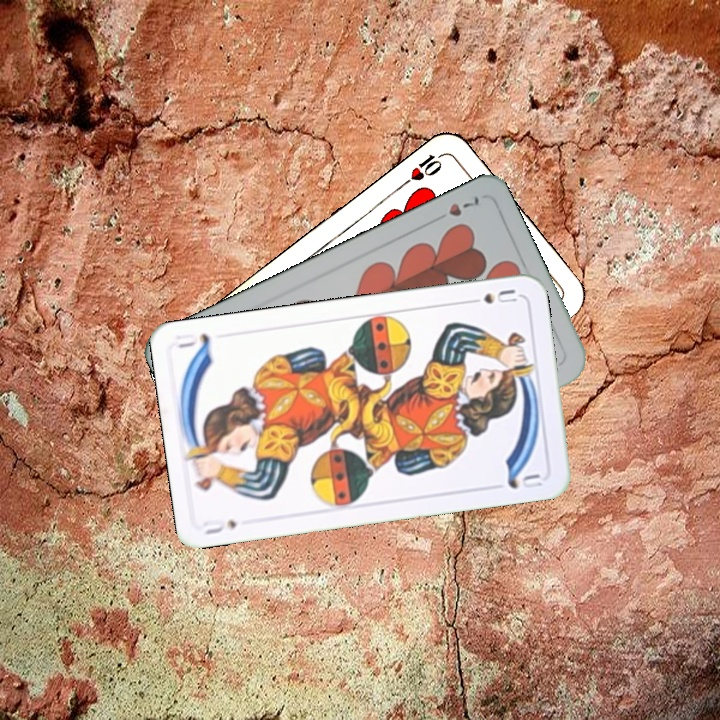H10: (397, 148, 448, 189)
H7: (428, 192, 482, 226)
SU: (462, 285, 520, 307), (200, 515, 240, 538)
